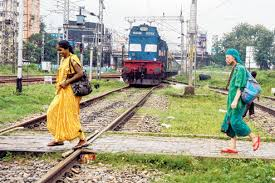crossing railway track: (42, 34, 97, 155)
